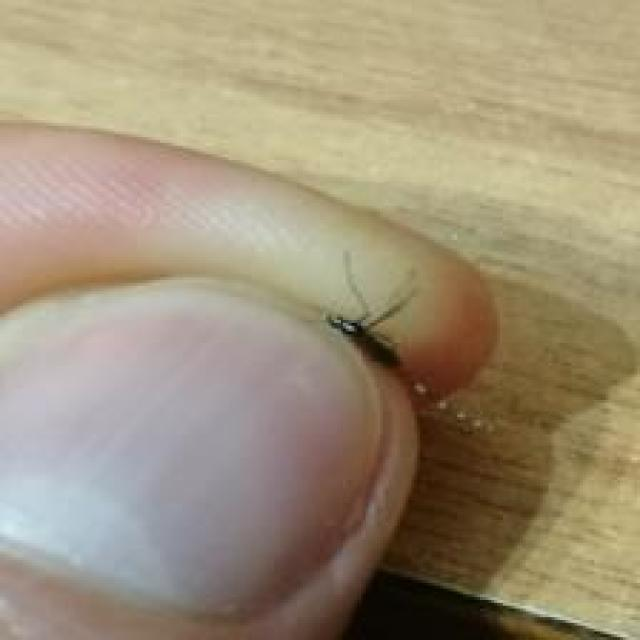Aedes albopictus: (323, 248, 420, 372)
